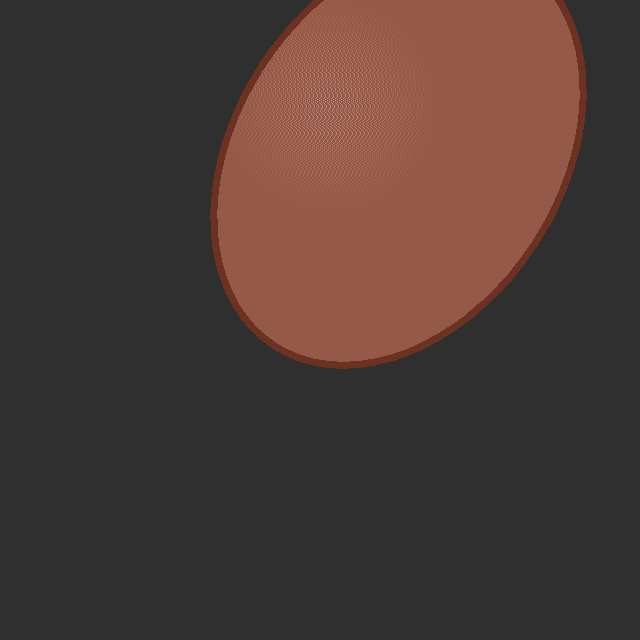lens: (214, 0, 582, 364)
